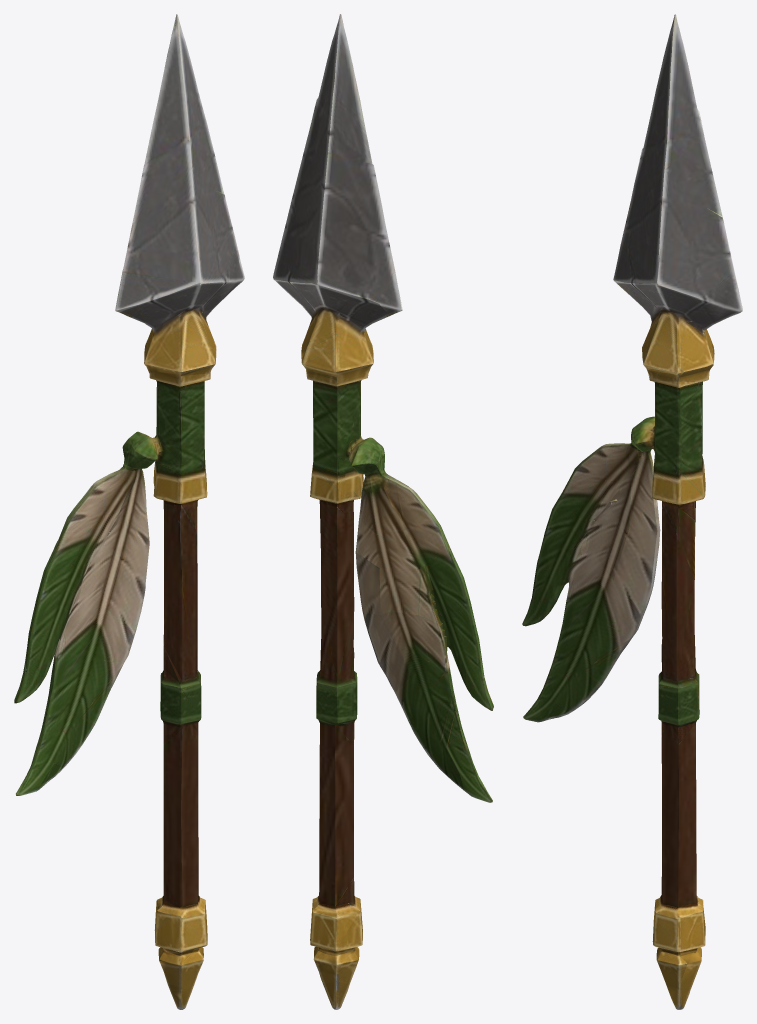
The model's file is boarsbane_spear.glb.
The picture shows the model from 3 angles, left to right: view 1: azimuth 30°, elevation 25°; view 2: azimuth 150°, elevation 25°; view 3: azimuth 330°, elevation 25°; orthographic projection.
Size of the model in its own units: 0.7418 by 3.14 by 0.2352.
1 material, 1 textured.
